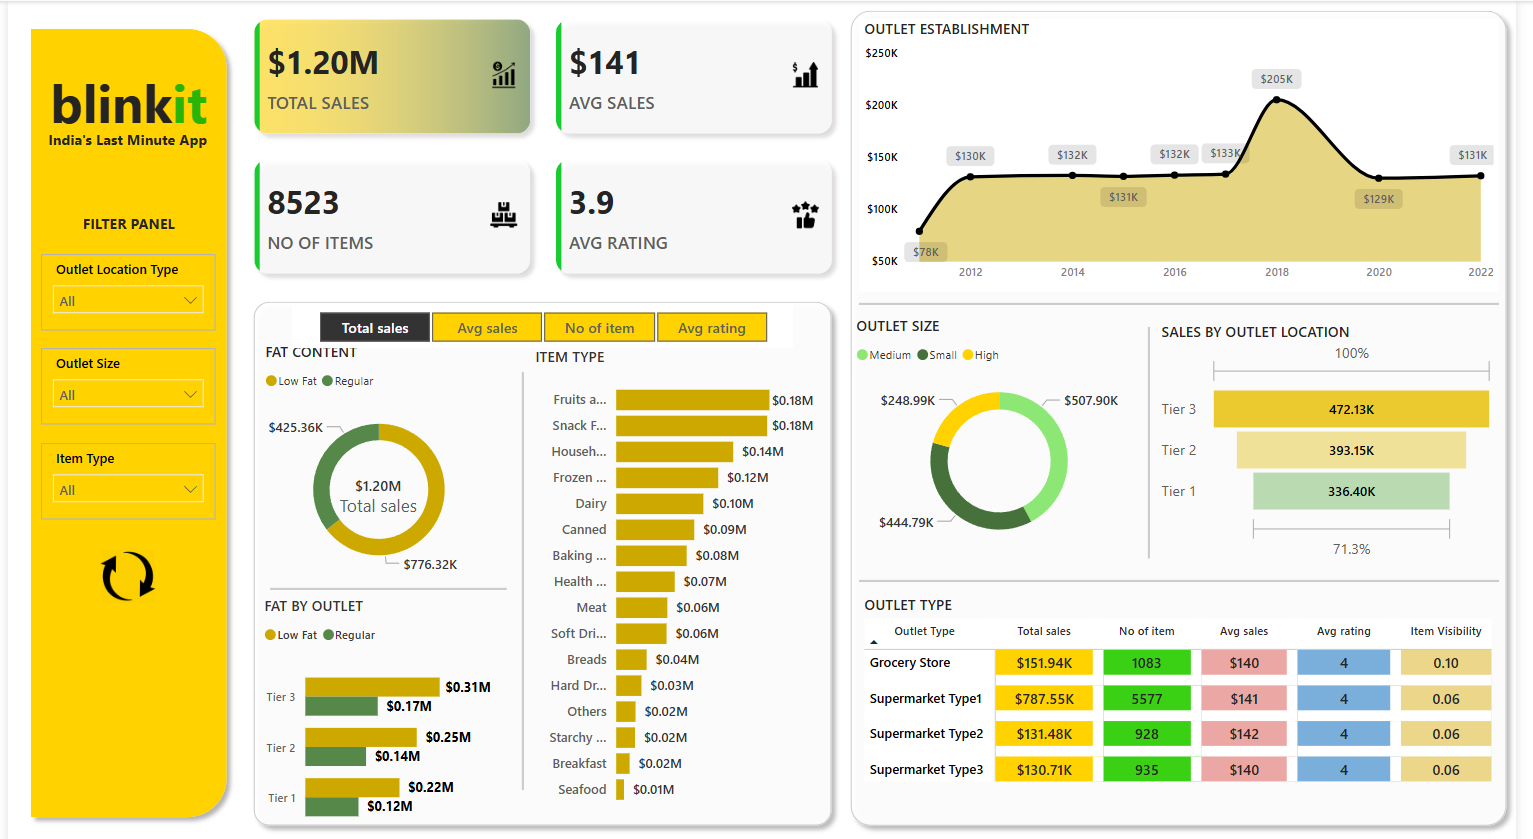

What the dashboard file says about the page in this screenshot:
{"tool":"powerbi","page":{"name":"Page 1","canvas":[1400,800],"ordinal":0},"visuals":[{"type":"shape","box":[11.8,16.7,200,749.8],"z":0},{"type":"textbox","box":[25.5,56.4,172.3,74.5],"z":1000},{"type":"textbox","box":[22.3,114.9,177.7,31.9],"z":2000},{"type":"cardVisual","fields":{"Data":["BlinkIT Grocery Data.Total sales","BlinkIT Grocery Data.Avg sales","BlinkIT Grocery Data.No of item","BlinkIT Grocery Data.Avg rating"]},"box":[211.7,0,570.2,270.2],"z":3000},{"type":"shape","box":[219.1,270.2,554.3,504.3],"z":4000},{"type":"donutChart","title":"FAT CONTENT","fields":{"Y":["BlinkIT Grocery Data.Total sales"],"Category":["BlinkIT Grocery Data.Item Fat Content"]},"box":[233.5,316.3,220.7,229.6],"z":5000},{"type":"slicer","fields":{"Values":["METRIC.METRIC"]},"box":[263.8,281.9,464.9,40.4],"z":6000},{"type":"cardVisual","fields":{"Data":["BlinkIT Grocery Data.Total sales"]},"box":[281.9,420.2,123.4,77.7],"z":7000},{"type":"clusteredBarChart","title":"FAT BY OUTLET","fields":{"Y":["BlinkIT Grocery Data.Total sales"],"Category":["BlinkIT Grocery Data.Outlet Location Type"],"Series":["BlinkIT Grocery Data.Item Fat Content"]},"box":[233,552.1,220.2,229.8],"z":8000},{"type":"shape","box":[243.3,538.9,219.7,12.8],"z":9000},{"type":"shape","box":[471.3,344.7,12.8,388.3],"z":10000},{"type":"barChart","title":"ITEM TYPE","fields":{"Y":["BlinkIT Grocery Data.Total sales"],"Category":["BlinkIT Grocery Data.Item Type"]},"box":[484,321.3,268.1,435.1],"z":11000},{"type":"shape","box":[773.4,0,626.6,774.5],"z":12000},{"type":"lineChart","title":"OUTLET ESTABLISHMENT","fields":{"Y":["BlinkIT Grocery Data.Total sales"],"Category":["BlinkIT Grocery Data.Outlet Establishment Year"]},"box":[790.1,16.7,594.1,253.2],"z":13000},{"type":"shape","box":[790.1,274.9,594.1,12.8],"z":14000},{"type":"donutChart","title":"OUTLET SIZE","fields":{"Y":["BlinkIT Grocery Data.Total sales"],"Category":["BlinkIT Grocery Data.Outlet Size"]},"box":[782.3,292.6,274.9,224.6],"z":15000},{"type":"shape","box":[1052.2,302.5,12.8,214.8],"z":16000},{"type":"funnel","title":"SALES BY OUTLET LOCATION","fields":{"Y":["Sum(BlinkIT Grocery Data.Sales)"],"Category":["BlinkIT Grocery Data.Outlet Location Type"]},"box":[1065,297.5,319.2,224.6],"z":17000},{"type":"shape","box":[790.1,531,594.1,14.8],"z":18000},{"type":"pivotTable","title":"OUTLET TYPE","fields":{"Values":["BlinkIT Grocery Data.Total sales","BlinkIT Grocery Data.No of item","BlinkIT Grocery Data.Avg sales","BlinkIT Grocery Data.Avg rating","Avg(BlinkIT Grocery Data.Item Visibility)"],"Rows":["BlinkIT Grocery Data.Outlet Type"]},"box":[790.1,551.7,594.1,190.1],"z":19000},{"type":"slicer","fields":{"Values":["BlinkIT Grocery Data.Outlet Location Type"]},"box":[30.5,234.5,161.6,70.9],"z":20000},{"type":"slicer","fields":{"Values":["BlinkIT Grocery Data.Outlet Size"]},"box":[30.5,322.2,161.6,70.9],"z":21000},{"type":"slicer","fields":{"Values":["BlinkIT Grocery Data.Item Type"]},"box":[30.5,409.9,161.6,70.9],"z":22000},{"type":"textbox","box":[58.1,193.1,107.4,33.5],"z":23000},{"type":"image","box":[80.8,498.5,61.1,70.9],"z":24000}]}

Visuals, with their boxes on the page's 1400x800 design canvas (x1, y1, x2, y2). These are canvas units, not pixel positions in the 1533x839 screenshot, which may show the page scaled, cropped or inside an application window:
shape: region(12, 17, 212, 766)
textbox: region(26, 56, 198, 131)
textbox: region(22, 115, 200, 147)
cardVisual - BlinkIT Grocery Data.Total sales x BlinkIT Grocery Data.Avg sales: region(212, 0, 782, 270)
shape: region(219, 270, 773, 774)
"FAT CONTENT" donutChart: region(234, 316, 454, 546)
slicer - METRIC.METRIC: region(264, 282, 729, 322)
cardVisual - BlinkIT Grocery Data.Total sales: region(282, 420, 405, 498)
"FAT BY OUTLET" clusteredBarChart: region(233, 552, 453, 782)
shape: region(243, 539, 463, 552)
shape: region(471, 345, 484, 733)
"ITEM TYPE" barChart: region(484, 321, 752, 756)
shape: region(773, 0, 1400, 774)
"OUTLET ESTABLISHMENT" lineChart: region(790, 17, 1384, 270)
shape: region(790, 275, 1384, 288)
"OUTLET SIZE" donutChart: region(782, 293, 1057, 517)
shape: region(1052, 302, 1065, 517)
"SALES BY OUTLET LOCATION" funnel: region(1065, 298, 1384, 522)
shape: region(790, 531, 1384, 546)
"OUTLET TYPE" pivotTable: region(790, 552, 1384, 742)
slicer - BlinkIT Grocery Data.Outlet Location Type: region(30, 234, 192, 305)
slicer - BlinkIT Grocery Data.Outlet Size: region(30, 322, 192, 393)
slicer - BlinkIT Grocery Data.Item Type: region(30, 410, 192, 481)
textbox: region(58, 193, 166, 227)
image: region(81, 498, 142, 569)
